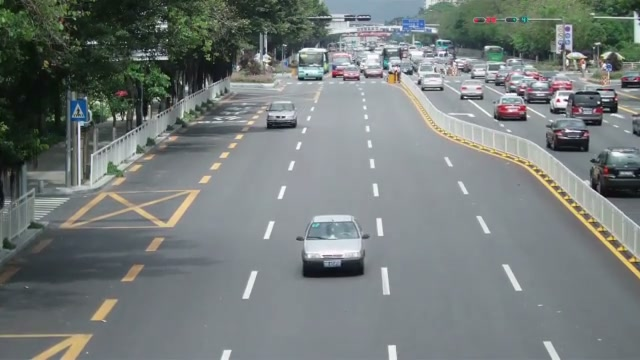car: (296, 214, 370, 277), (589, 147, 640, 196), (544, 118, 591, 152), (566, 92, 604, 126), (494, 94, 528, 121), (266, 100, 297, 128), (549, 91, 575, 114), (525, 81, 552, 103), (596, 88, 618, 113), (459, 80, 484, 100), (420, 74, 444, 91), (621, 72, 640, 89), (342, 66, 360, 81)
truck: (297, 47, 329, 81)
